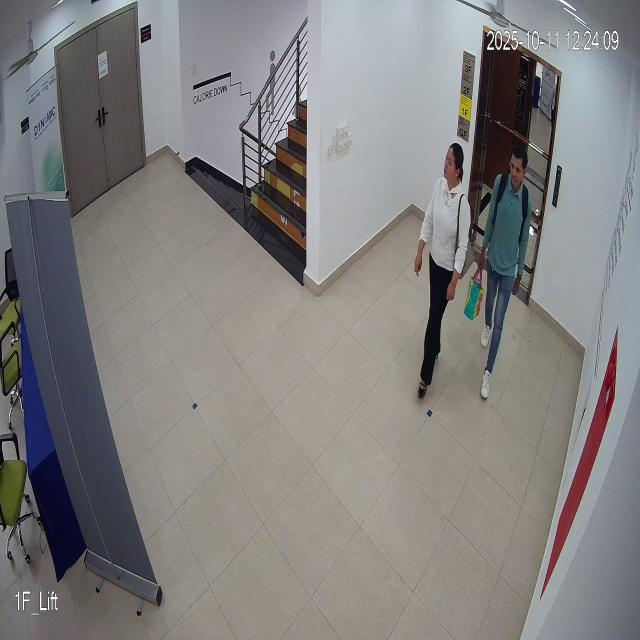face: (440, 134, 465, 198), (508, 136, 530, 198)
